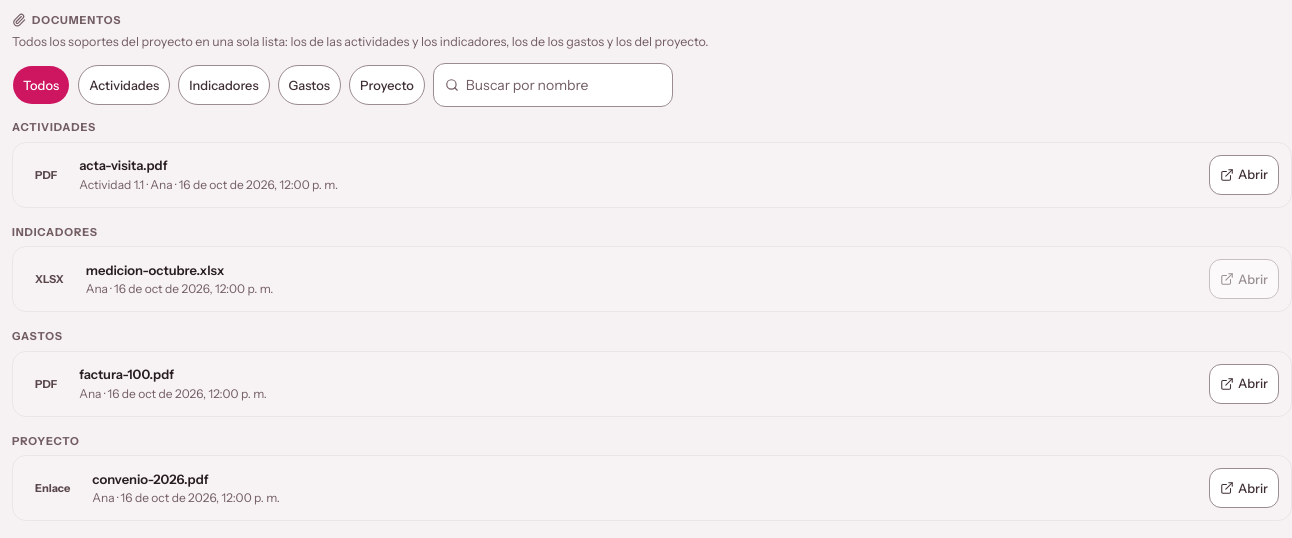
Test: FichaDocumentos › searches by name, ignoring case
In the search field labelled "Buscar por nombre": (553, 85) [433,63,673,107], type "FACTURA"
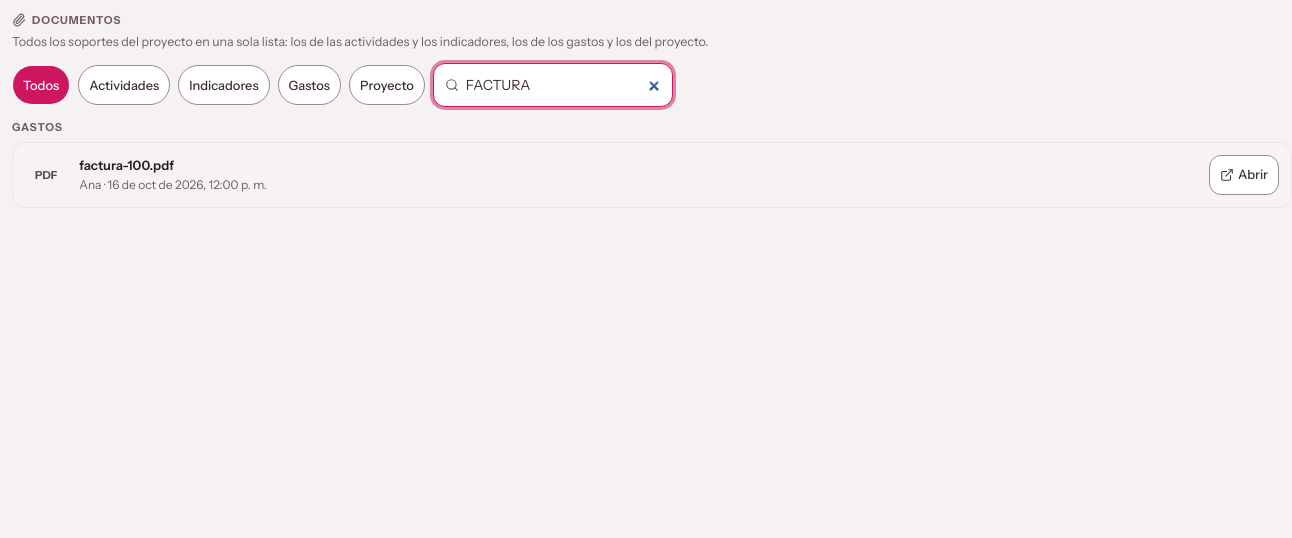
Check: the text "factura-100.pdf" is shown, box [79,157,174,173]
Check: the number of list items with test id "documento-fila" is 1, box [12,142,1291,208]
Check: the element with test id "documentos-grupo-avance" is gone
